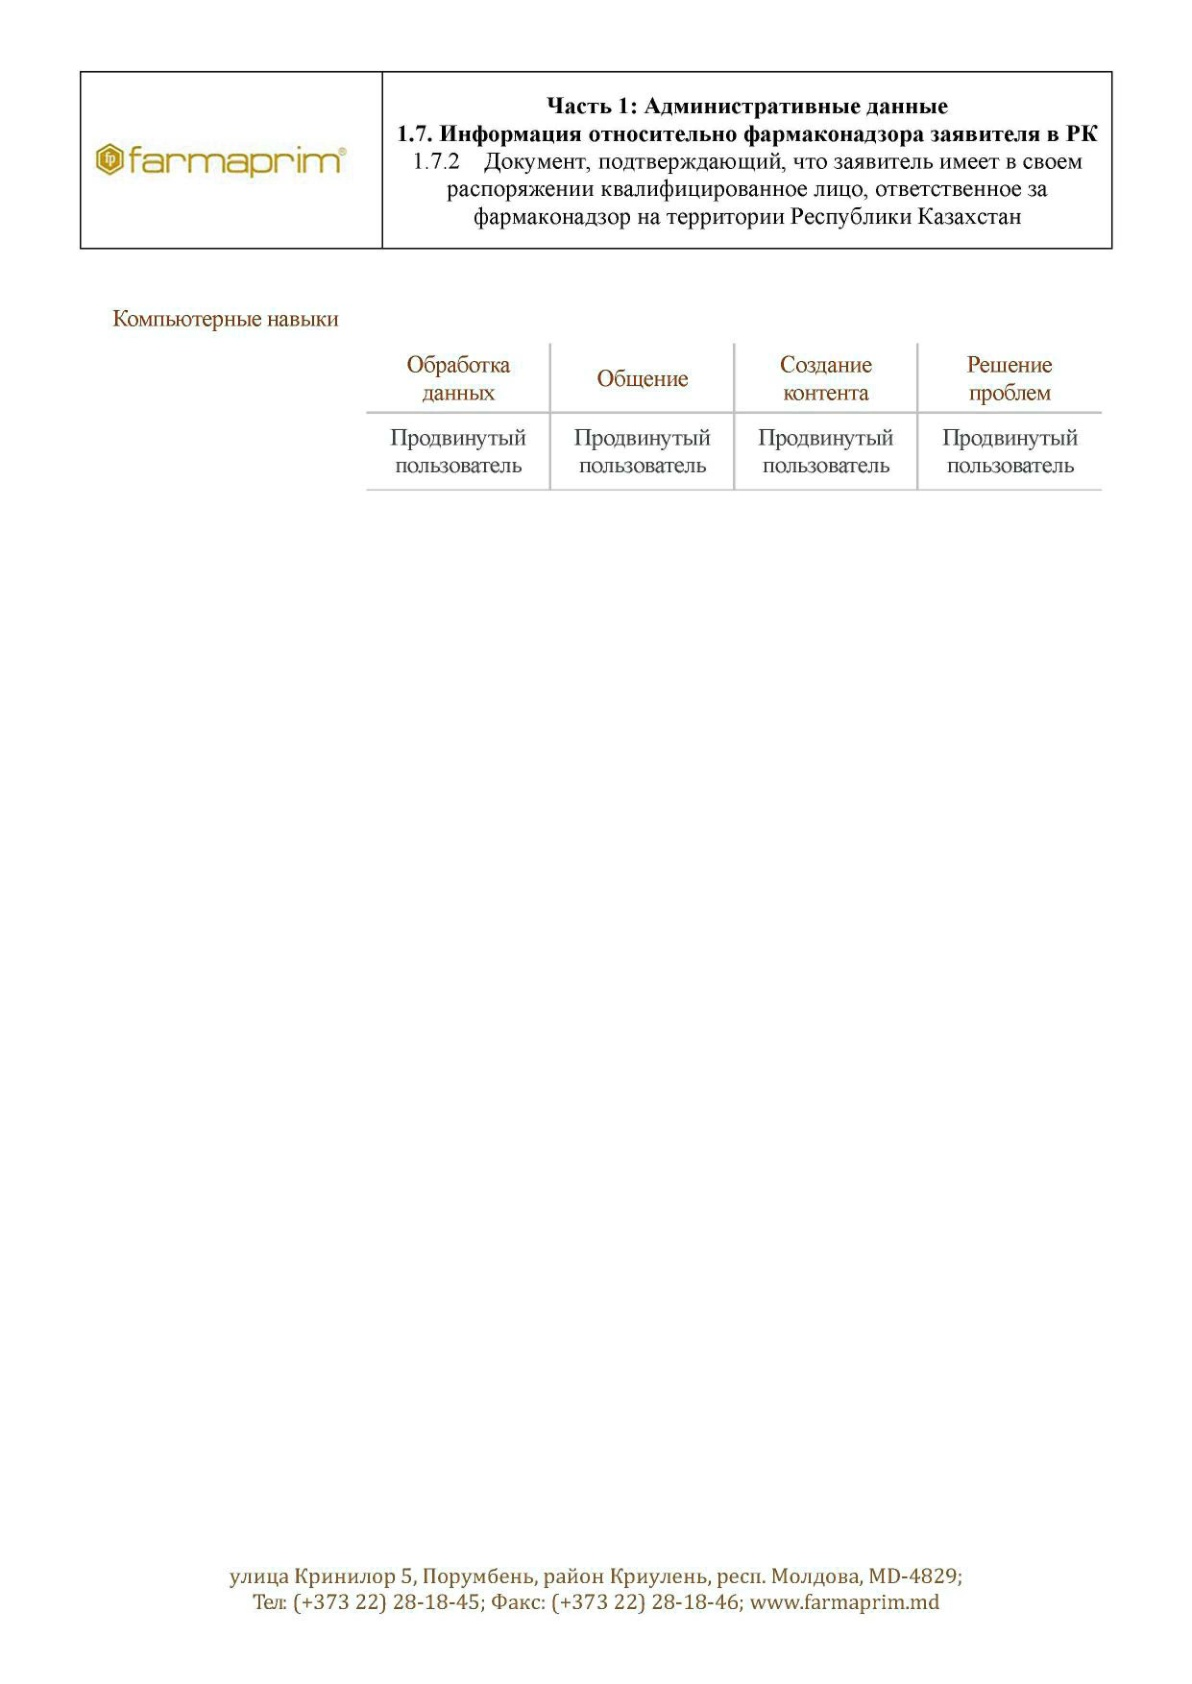full_lined: (76, 68, 1118, 253)
partial_lined: (363, 346, 1108, 493)
